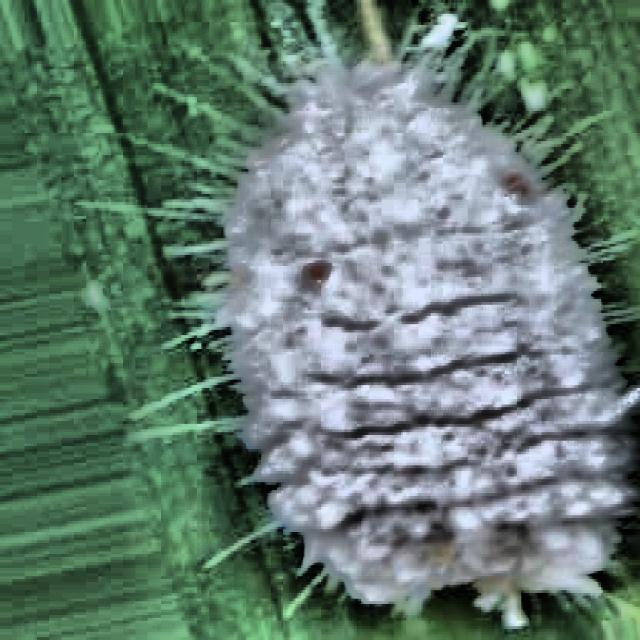Mealy-bug: (139, 0, 640, 640)
